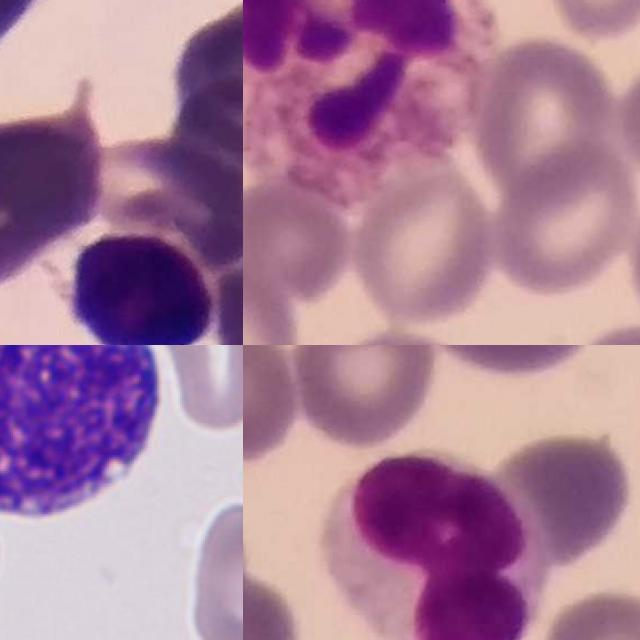Lymphocyte: (322, 447, 552, 640), (0, 345, 173, 535), (50, 216, 224, 345)
Neutrophil: (243, 0, 498, 208)
RBC: (183, 496, 243, 640), (162, 345, 243, 435)
